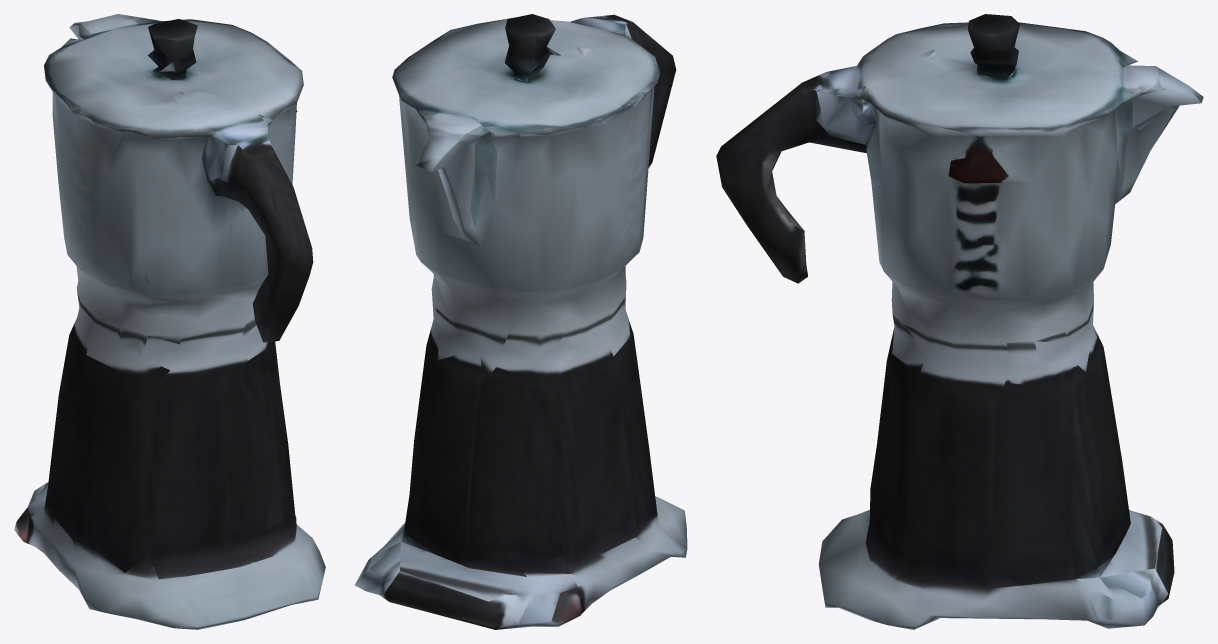
The model's file is CoffeePowder.glb.
3 renders of one model, left to right at view 1: azimuth 30°, elevation 25°; view 2: azimuth 150°, elevation 25°; view 3: azimuth 270°, elevation 25°, orthographic. The views are drawn at different scales.
Visible parts, largest first — view 1: high_poly.001; view 2: high_poly.001; view 3: high_poly.001.
Part boxes in pixels (x1=…): high_poly.001: x1=14, y1=14, x2=325, y2=629; high_poly.001: x1=354, y1=14, x2=687, y2=629; high_poly.001: x1=716, y1=14, x2=1203, y2=629.
Bounding box in the file's own units: 0.455 × 0.9971 × 0.7994.
1 material, 1 textured.
